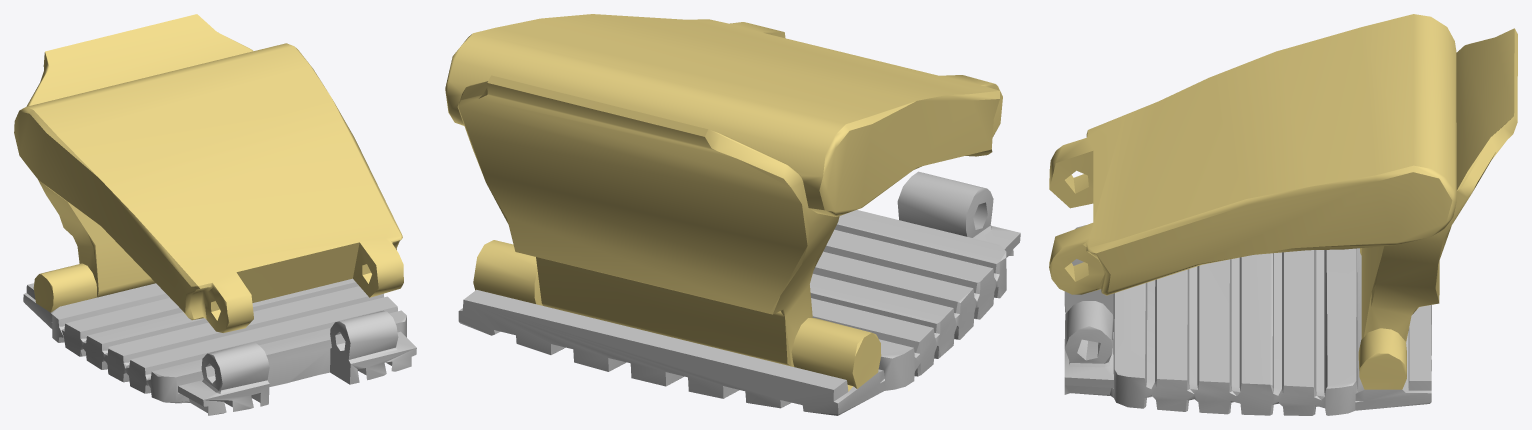
File: link_finger_base.glb
The picture shows the model from 3 angles, left to right: view 1: azimuth 30°, elevation 25°; view 2: azimuth 150°, elevation 25°; view 3: azimuth 270°, elevation 25°; orthographic projection. The views are drawn at different scales.
Parts seen in each view (by area): view 1: link_finger_base_simplified.3obj.001, link_finger_base_simplified.3obj; view 2: link_finger_base_simplified.3obj.001, link_finger_base_simplified.3obj; view 3: link_finger_base_simplified.3obj.001, link_finger_base_simplified.3obj.
Boxes of the visible parts, x1,y1,x2,y2 form: link_finger_base_simplified.3obj.001: (14,14,403,332); link_finger_base_simplified.3obj: (23,278,416,415); link_finger_base_simplified.3obj.001: (445,14,1002,391); link_finger_base_simplified.3obj: (458,171,1020,415); link_finger_base_simplified.3obj.001: (1049,14,1517,389); link_finger_base_simplified.3obj: (1064,225,1431,415).
Bounding box in the file's own units: 0.0479 × 0.0373 × 0.0574.
